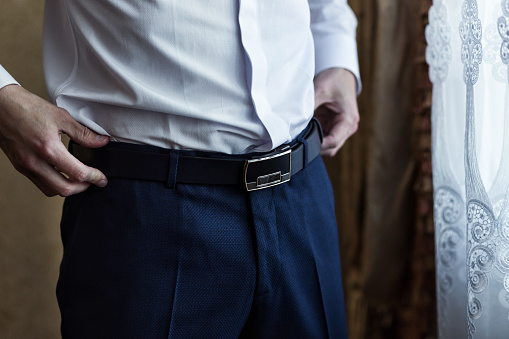F_belt: (68, 129, 328, 189)
F_dress pants: (58, 133, 350, 338)
